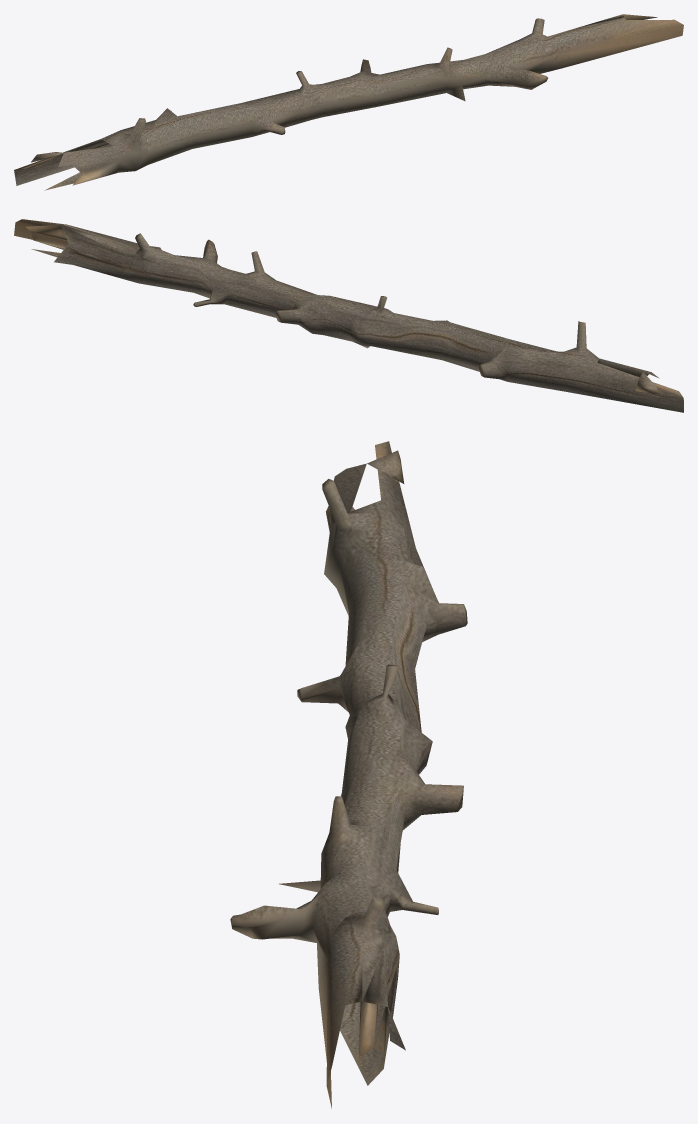
Rendered from club_ground_a.glb.
3 renders of one model, top to bottom at view 1: azimuth 30°, elevation 25°; view 2: azimuth 150°, elevation 25°; view 3: azimuth 270°, elevation 25°, orthographic. The views are drawn at different scales.
Bounding box in the file's own units: 0.4632 × 0.0394 × 0.0727.
1 material, 1 textured.
